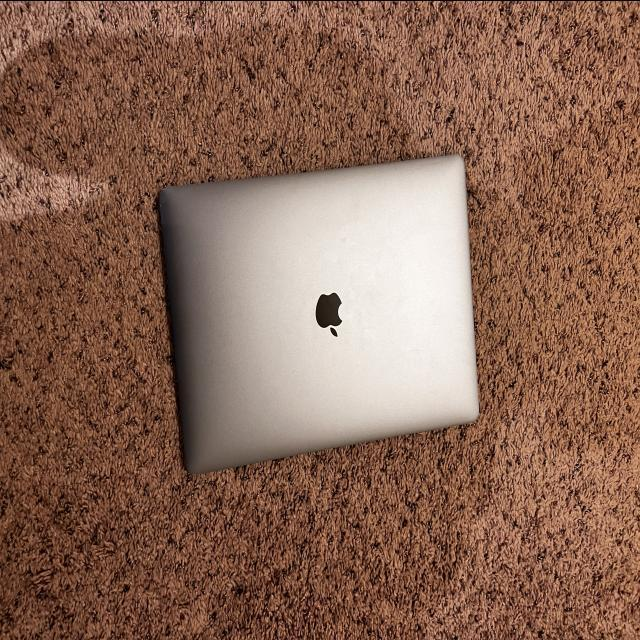laptop: (156, 153, 480, 475)
